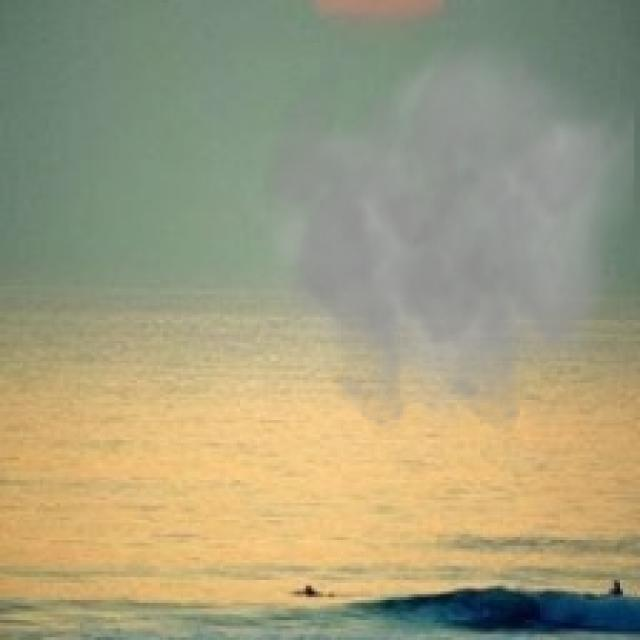Smoke: (228, 29, 634, 438)
